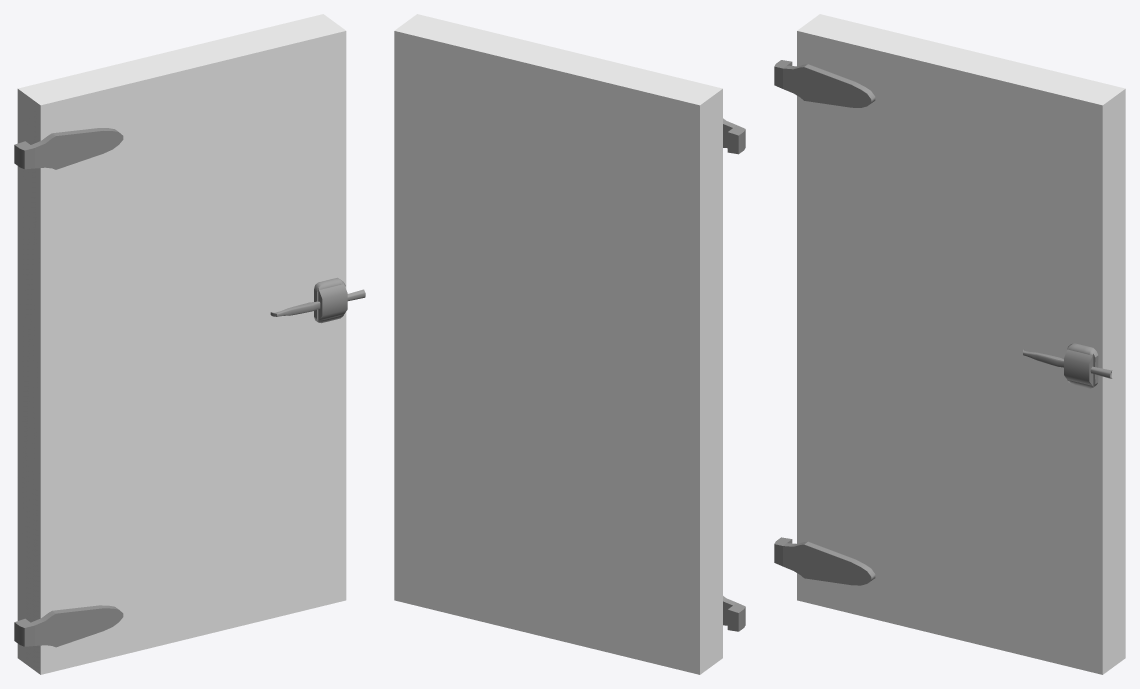
Rendered from refrigeratorDoor.fbx.
3 views of the same model, side by side, from view 1: azimuth 30°, elevation 25°; view 2: azimuth 150°, elevation 25°; view 3: azimuth 330°, elevation 25° (orthographic).
Parts seen in each view (by area): view 1: polySurface20; view 2: polySurface20; view 3: polySurface20.
Boxes of the visible parts, box(x1,y1,x2,y2) form: polySurface20: box(14, 14, 365, 674); polySurface20: box(394, 14, 745, 674); polySurface20: box(774, 14, 1125, 674).
Bounding box in the file's own units: 4.46 × 7.13 × 0.6878.
1 material, 1 textured.
